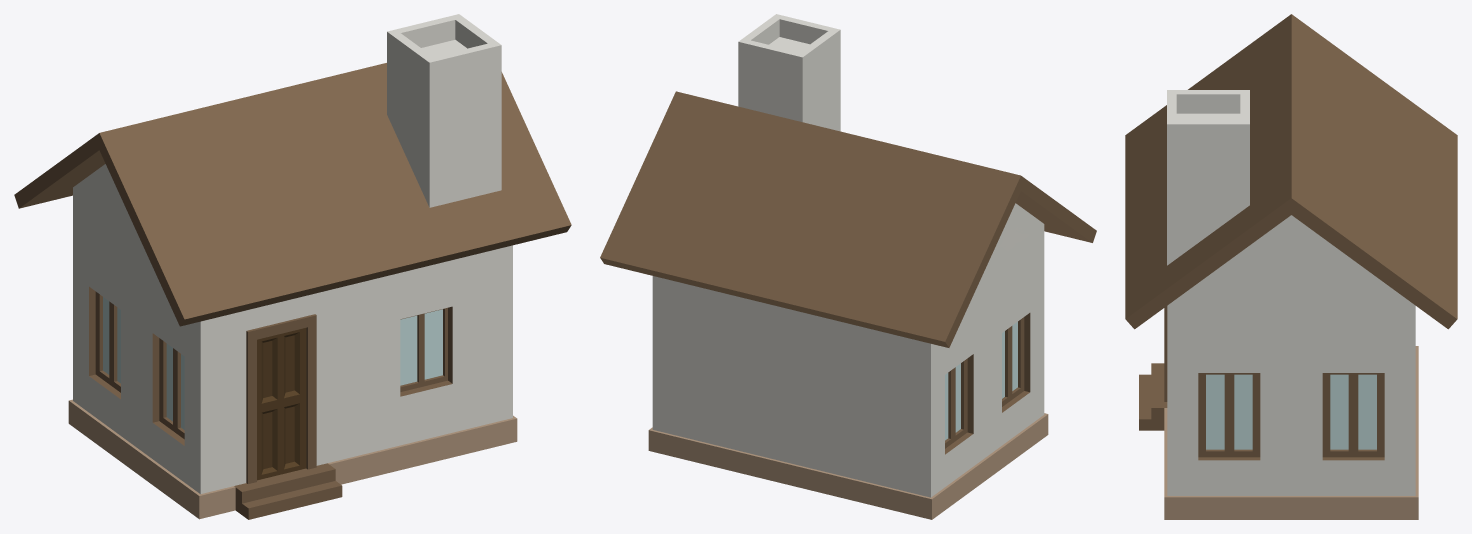
File: environmentHouse_mdl_v001.fbx
3 views of the same model, side by side, from view 1: azimuth 30°, elevation 25°; view 2: azimuth 150°, elevation 25°; view 3: azimuth 270°, elevation 25° (orthographic). The views are drawn at different scales.
Parts seen in each view (by area): view 1: house, door; view 2: house; view 3: house.
Boxes of the visible parts, left/top/right/bottom form: house: left=14, top=14, right=571, bottom=519; door: left=257, top=328, right=306, bottom=480; house: left=600, top=14, right=1096, bottom=519; house: left=1125, top=14, right=1457, bottom=519.
Size of the model in its own units: 228 by 224 by 173.
